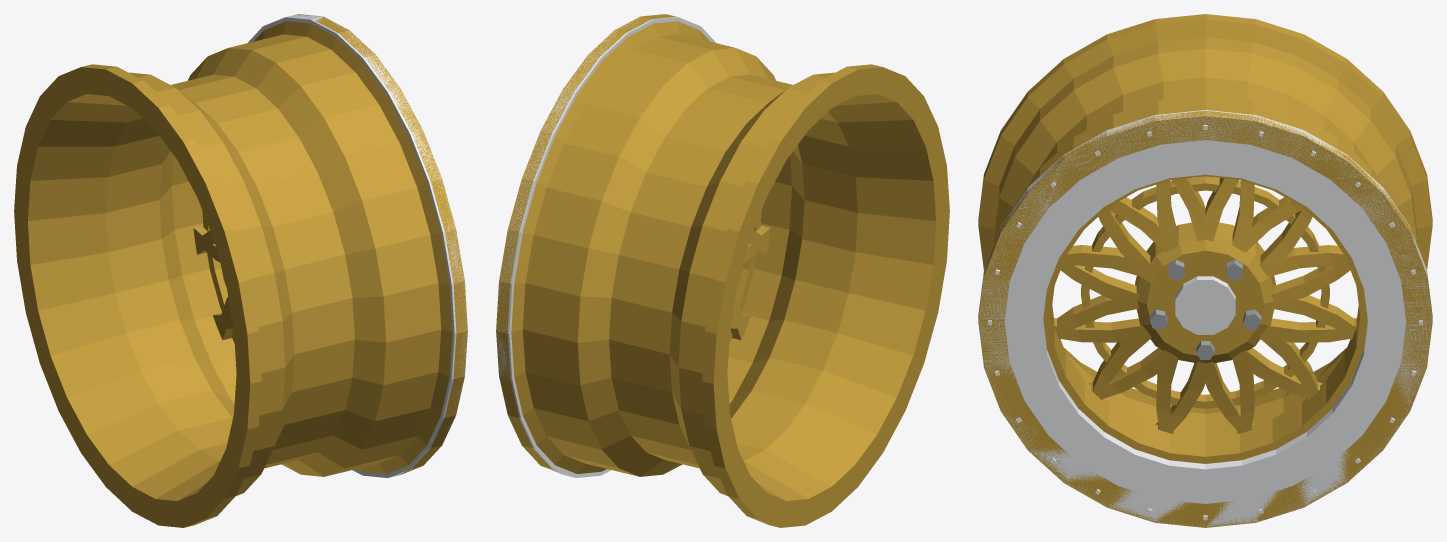
File: rim_meshdish_17.glb
3 views of the same model, side by side, from view 1: azimuth 30°, elevation 25°; view 2: azimuth 150°, elevation 25°; view 3: azimuth 270°, elevation 25° (orthographic). The views are drawn at different scales.
Visible parts, largest first — view 1: model; view 2: model; view 3: model.
Boxes of the visible parts, x1,y1,x2,y2 form: model: [14, 14, 467, 527]; model: [496, 14, 949, 527]; model: [978, 14, 1432, 527].
Size of the model in its own units: 0.2496 by 0.4638 by 0.4638.
